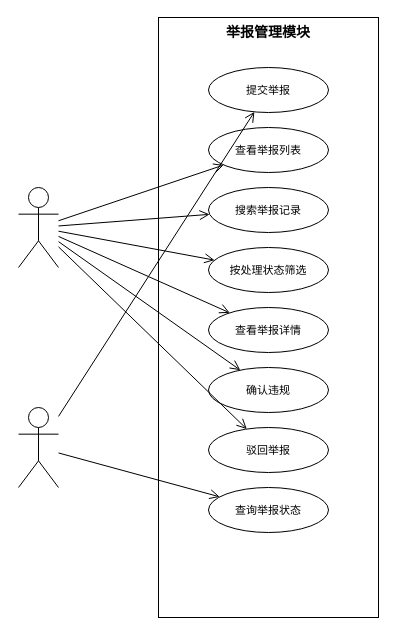
This 396x635 diagram has some shape labels left out. Here are the shapes that lost their labels. From the top down, the box of each, then its label:
(18, 186, 58, 268): 管理员
(18, 406, 58, 488): MC玩家
